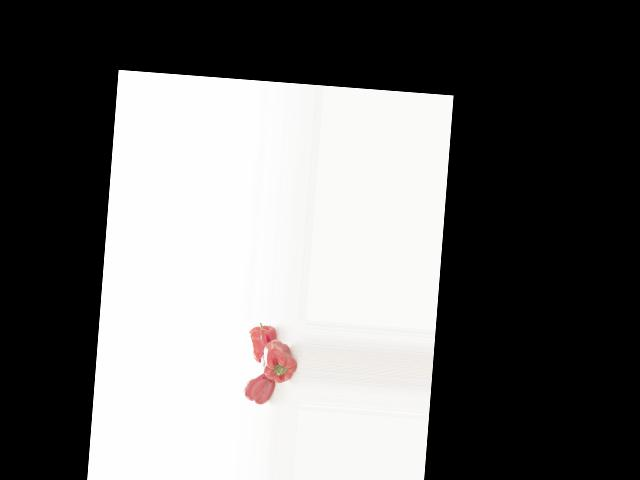bell_pepper: (242, 374, 277, 407)
